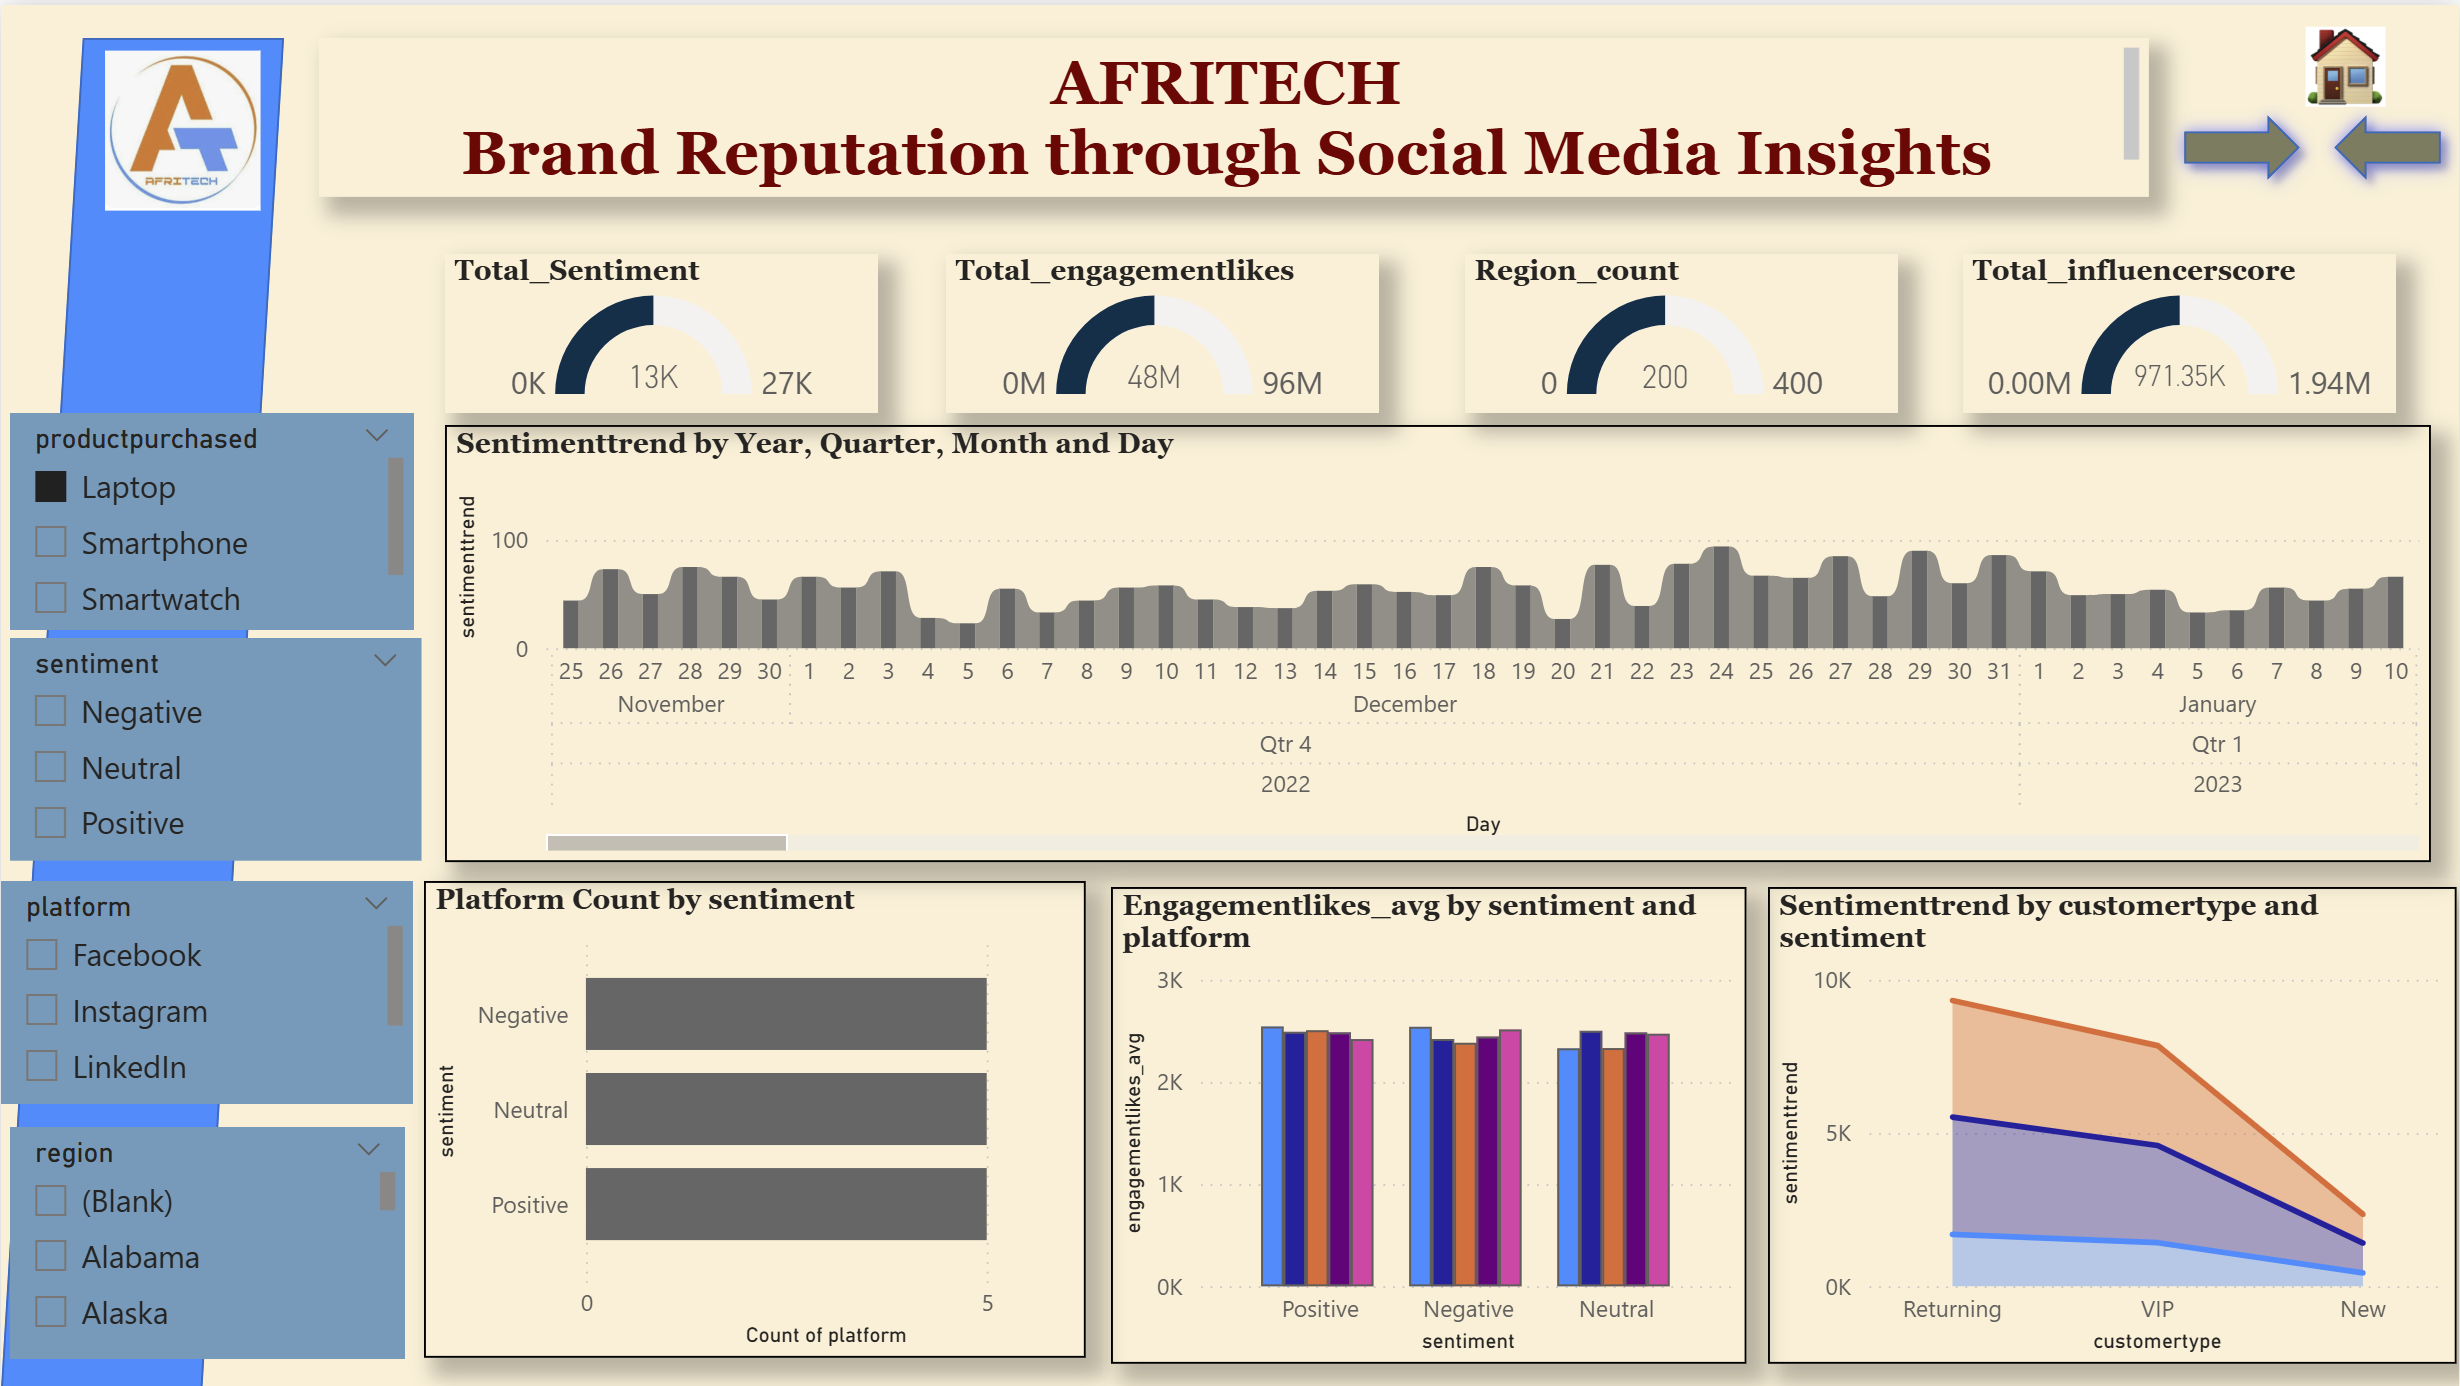

This screenshot's page, from the dashboard's own definition file:
{"tool":"powerbi","page":{"name":"Sentiment","canvas":[1280,720],"ordinal":2},"visuals":[{"type":"shape","box":[0,16.9,147.5,703.4],"z":0,"group":"g1"},{"type":"textbox","box":[165.6,17.2,953.1,82.8],"z":2000},{"type":"group","id":"g1","title":"Group 1","box":[0,16.9,147.5,703.4],"z":3000},{"type":"ribbonChart","title":"Sentimenttrend by Year, Quarter, Month and Day","fields":{"Category":["public socialmedia.interactiondate.Variation.Date Hierarchy.Year","public socialmedia.interactiondate.Variation.Date Hierarchy.Quarter","public socialmedia.interactiondate.Variation.Date Hierarchy.Month","public socialmedia.interactiondate.Variation.Date Hierarchy.Day"],"Y":["public sentiment.sentimenttrend"]},"box":[231,219,1034.5,227.6],"z":4000},{"type":"image","box":[42.4,18.6,105.1,93.2],"z":5000,"group":"g1"},{"type":"stackedAreaChart","title":"Sentimenttrend by customertype and sentiment","fields":{"Category":["public customers.customertype"],"Series":["public sentiment.sentiment"],"Y":["public sentiment.sentimenttrend"]},"box":[920.7,458.6,358.6,248.3],"z":5000},{"type":"clusteredBarChart","title":"Platform Count by sentiment","fields":{"Category":["public sentiment.sentiment"],"Y":["CountNonNull(public platform.platform)"]},"box":[220.7,456.9,344.8,248.3],"z":6000},{"type":"clusteredColumnChart","title":"Engagementlikes_avg by sentiment and platform","fields":{"Y":["public socialmedia.engagementlikes_avg"],"Category":["public sentiment.sentiment"],"Series":["public platform.platform"]},"box":[577.6,458.6,331,248.3],"z":7000},{"type":"gauge","title":"Region_count","fields":{"Y":["public customers.region_sum"]},"box":[762.9,130,225.7,82.9],"z":8000},{"type":"slicer","fields":{"Values":["public products.productpurchased"]},"box":[4.3,213,210.1,113],"z":8000,"group":"g2"},{"type":"gauge","title":"Total_engagementlikes","fields":{"Y":["Sum(public socialmedia.engagementlikes)"]},"box":[492.9,130,225.7,82.9],"z":9000},{"type":"slicer","fields":{"Values":["public customers.region"]},"box":[4.3,585.5,205.8,120.3],"z":9000,"group":"g2"},{"type":"gauge","title":"Total_Sentiment","fields":{"Y":["public sentiment.sentiment_sum"]},"box":[231.4,130,225.7,82.9],"z":10000},{"type":"slicer","fields":{"Values":["public platform.platform"]},"box":[0,456.5,214.5,115.9],"z":10000,"group":"g2"},{"type":"gauge","title":"Total_influencerscore","fields":{"Y":["Sum(public socialmedia.influencerscore)"]},"box":[1021.4,130,225.7,82.9],"z":11000},{"type":"slicer","fields":{"Values":["public sentiment.sentiment"]},"box":[4.3,330.4,214.5,115.9],"z":11000,"group":"g2"},{"type":"group","id":"g2","title":"Group 2","box":[0,213,218.8,492.8],"z":12000},{"type":"shape","box":[1128.1,48.4,78.1,51.6],"z":12001},{"type":"shape","box":[1206.2,48.4,73.4,51.6],"z":12002},{"type":"image","box":[1195.3,0,51.6,64.1],"z":12003}]}

Visuals, with their boxes in screenshot pixels (x1, y1, x2, y2), scaled from the page's 1280x720 canvas onto the 2460x1386 screenshot:
shape: {"left": 0, "top": 33, "right": 283, "bottom": 1385}
textbox: {"left": 318, "top": 33, "right": 2150, "bottom": 192}
"Group 1" group: {"left": 0, "top": 33, "right": 283, "bottom": 1385}
"Sentimenttrend by Year, Quarter, Month and Day" ribbonChart: {"left": 444, "top": 422, "right": 2432, "bottom": 860}
image: {"left": 81, "top": 36, "right": 283, "bottom": 215}
"Sentimenttrend by customertype and sentiment" stackedAreaChart: {"left": 1769, "top": 883, "right": 2459, "bottom": 1361}
"Platform Count by sentiment" clusteredBarChart: {"left": 424, "top": 880, "right": 1087, "bottom": 1358}
"Engagementlikes_avg by sentiment and platform" clusteredColumnChart: {"left": 1110, "top": 883, "right": 1746, "bottom": 1361}
"Region_count" gauge: {"left": 1466, "top": 250, "right": 1900, "bottom": 410}
slicer - public products.productpurchased: {"left": 8, "top": 410, "right": 412, "bottom": 628}
"Total_engagementlikes" gauge: {"left": 947, "top": 250, "right": 1381, "bottom": 410}
slicer - public customers.region: {"left": 8, "top": 1127, "right": 404, "bottom": 1359}
"Total_Sentiment" gauge: {"left": 445, "top": 250, "right": 878, "bottom": 410}
slicer - public platform.platform: {"left": 0, "top": 879, "right": 412, "bottom": 1102}
"Total_influencerscore" gauge: {"left": 1963, "top": 250, "right": 2397, "bottom": 410}
slicer - public sentiment.sentiment: {"left": 8, "top": 636, "right": 421, "bottom": 859}
"Group 2" group: {"left": 0, "top": 410, "right": 421, "bottom": 1359}
shape: {"left": 2168, "top": 93, "right": 2318, "bottom": 192}
shape: {"left": 2318, "top": 93, "right": 2459, "bottom": 192}
image: {"left": 2297, "top": 0, "right": 2396, "bottom": 123}
